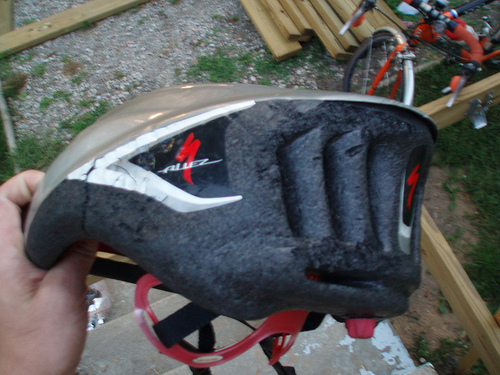helmet: (47, 86, 435, 294)
